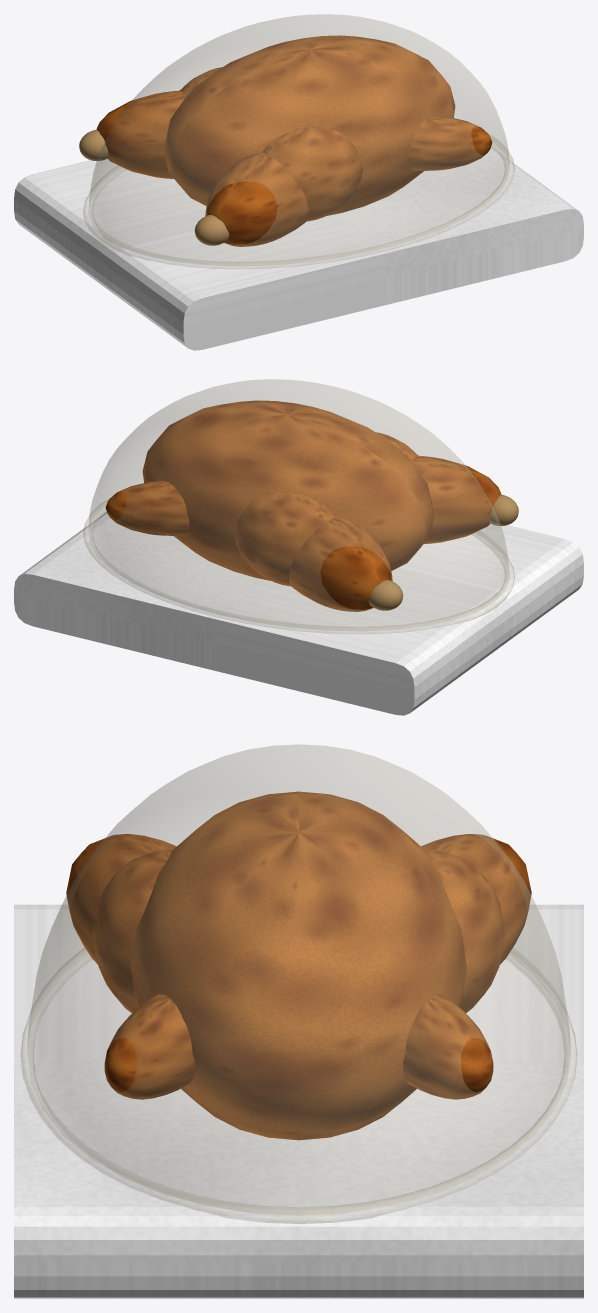
Rendered from Rotisserie_Tray.glb.
3 views of the same model, one above another, from view 1: azimuth 30°, elevation 25°; view 2: azimuth 150°, elevation 25°; view 3: azimuth 270°, elevation 25° (orthographic). The views are drawn at different scales.
Parts seen in each view (by area): view 1: Tray_Lid, Tray_Base, Roast_Chicken; view 2: Tray_Lid, Tray_Base, Roast_Chicken; view 3: Tray_Lid, Tray_Base, Roast_Chicken.
Boxes of the visible parts, x1,y1,x2,y2 form: Tray_Lid: (83, 14, 514, 268); Tray_Base: (14, 147, 583, 350); Roast_Chicken: (79, 35, 492, 246); Tray_Lid: (83, 379, 514, 633); Tray_Base: (14, 512, 583, 715); Roast_Chicken: (105, 400, 518, 611); Tray_Lid: (20, 744, 577, 1223); Tray_Base: (14, 904, 583, 1298); Roast_Chicken: (66, 791, 531, 1140).
Size of the model in its own units: 0.3 by 0.152 by 0.22.
Materials: 5 (2 with a texture image).
